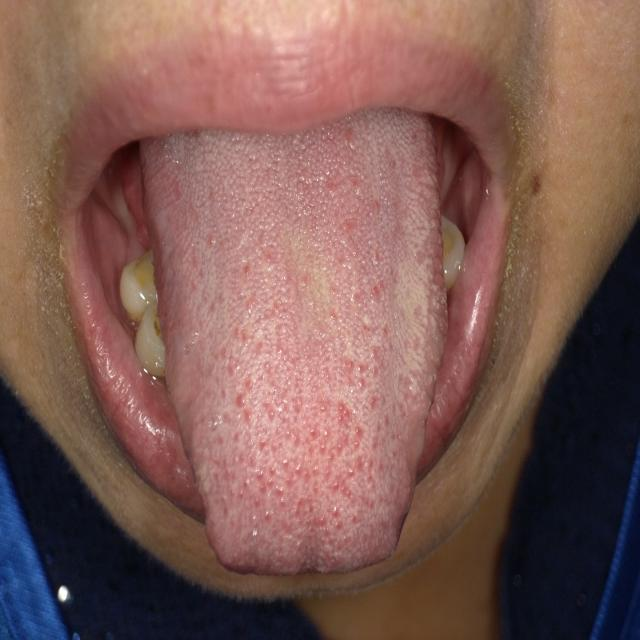baitaishe: (138, 106, 447, 575)
hongdianshe: (233, 392, 245, 408), (371, 283, 381, 298)
